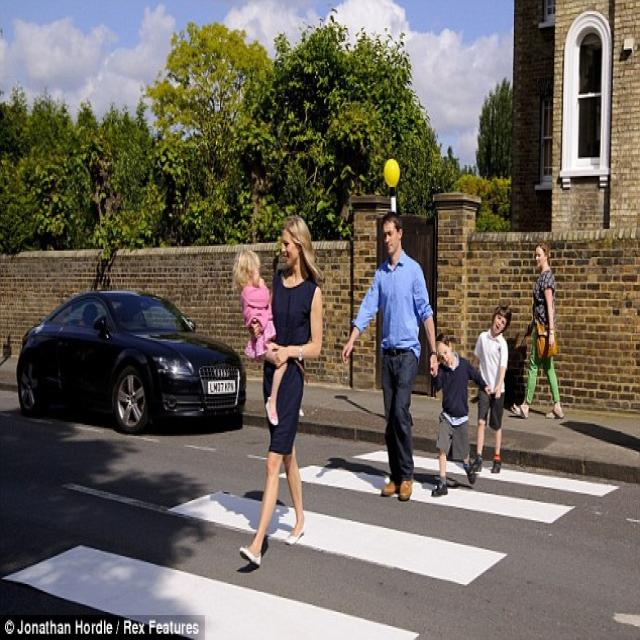body: (238, 209, 325, 568), (337, 208, 441, 504), (428, 325, 492, 503), (230, 248, 290, 430), (509, 238, 566, 421), (468, 302, 513, 483), (317, 450, 468, 500), (206, 475, 300, 543)
